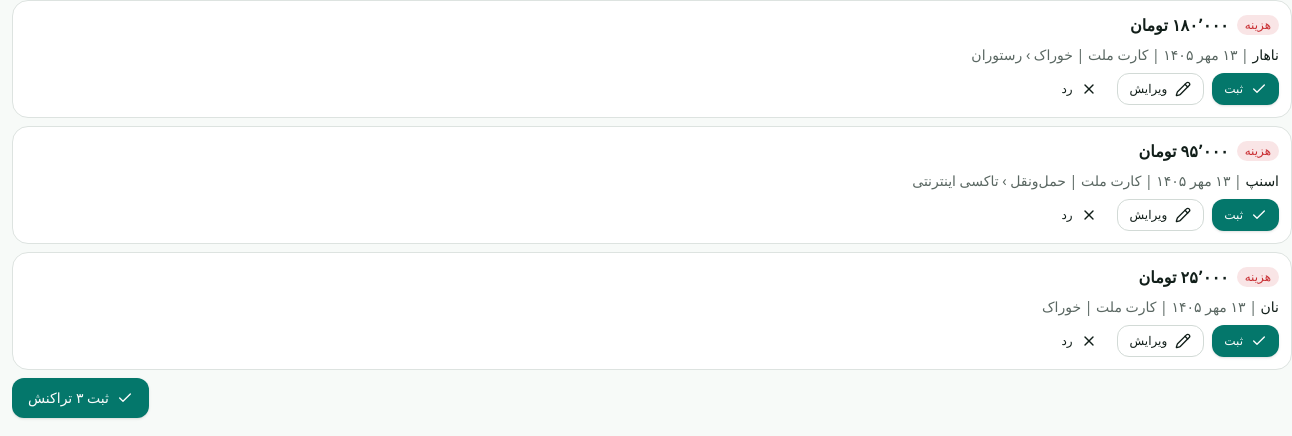
Scenario: DraftList › records every ready draft at once and drops the dismissed ones
The width and height of the screenshot is (1292, 436).
Click the button "رد" below "نان".
click(1079, 341)  # box [1049,325,1108,357]
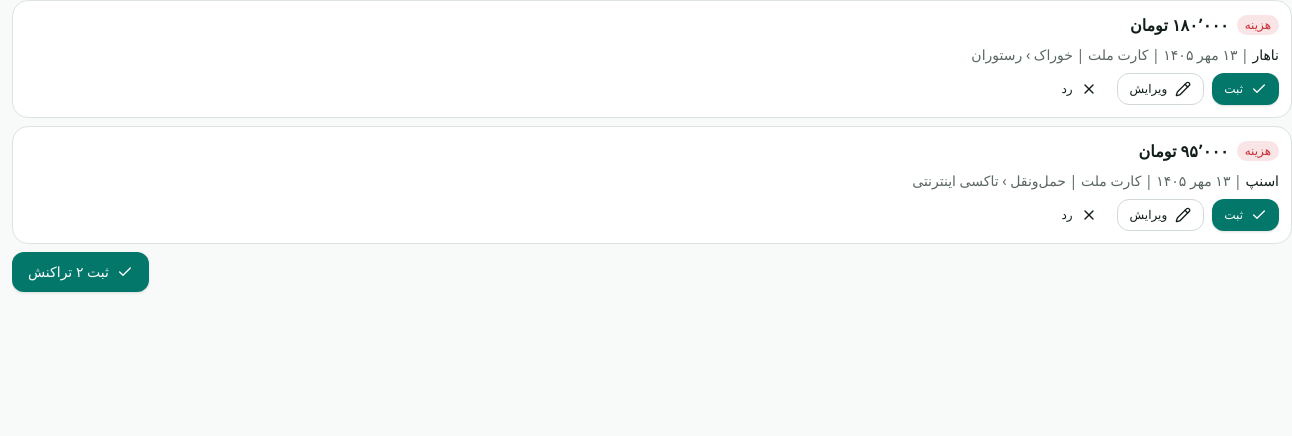
expect the text "نان" is gone: met
Click the button "ثبت ۲ تراکنش".
click(80, 272)  # box [12,252,149,292]
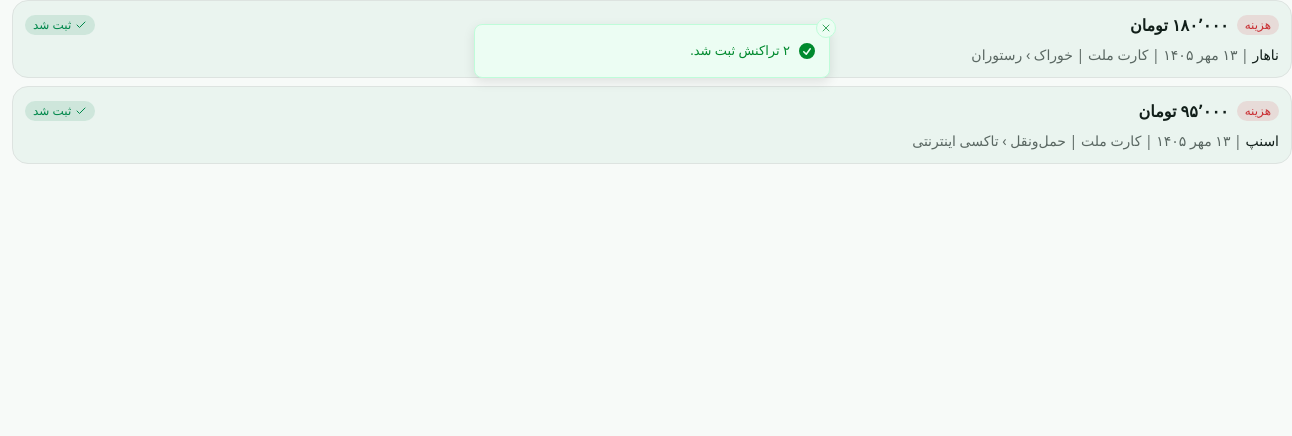
expect the text "ثبت شد" is shown 2 times: met, box [25,15,95,35]; [25,101,95,121]
